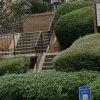stairs: (5, 32, 55, 52), (44, 53, 59, 73)
